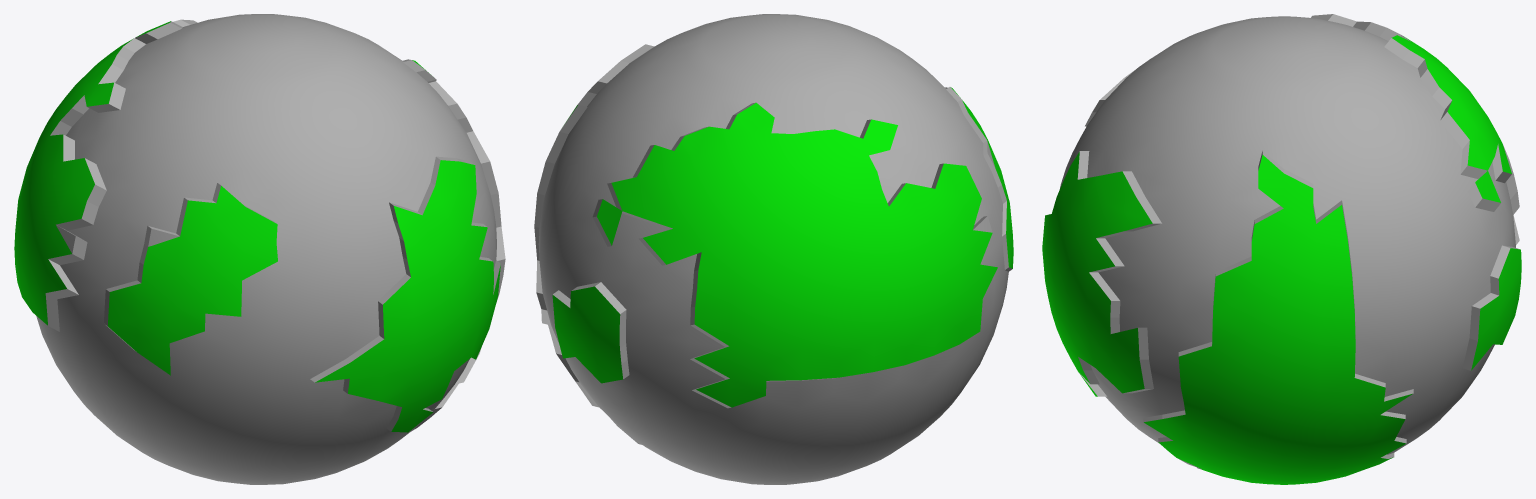
File: EarthHologram.fbx
The picture shows the model from 3 angles, left to right: view 1: azimuth 30°, elevation 25°; view 2: azimuth 150°, elevation 25°; view 3: azimuth 270°, elevation 25°; orthographic projection.
Parts seen in each view (by area): view 1: pSphere1; view 2: pSphere1; view 3: pSphere1.
Boxes of the visible parts, <box> form: pSphere1: <box>14,14,505,484</box>; pSphere1: <box>534,14,1013,484</box>; pSphere1: <box>1042,14,1521,484</box>.
Bounding box in the file's own units: 2.08 × 2 × 2.06.
